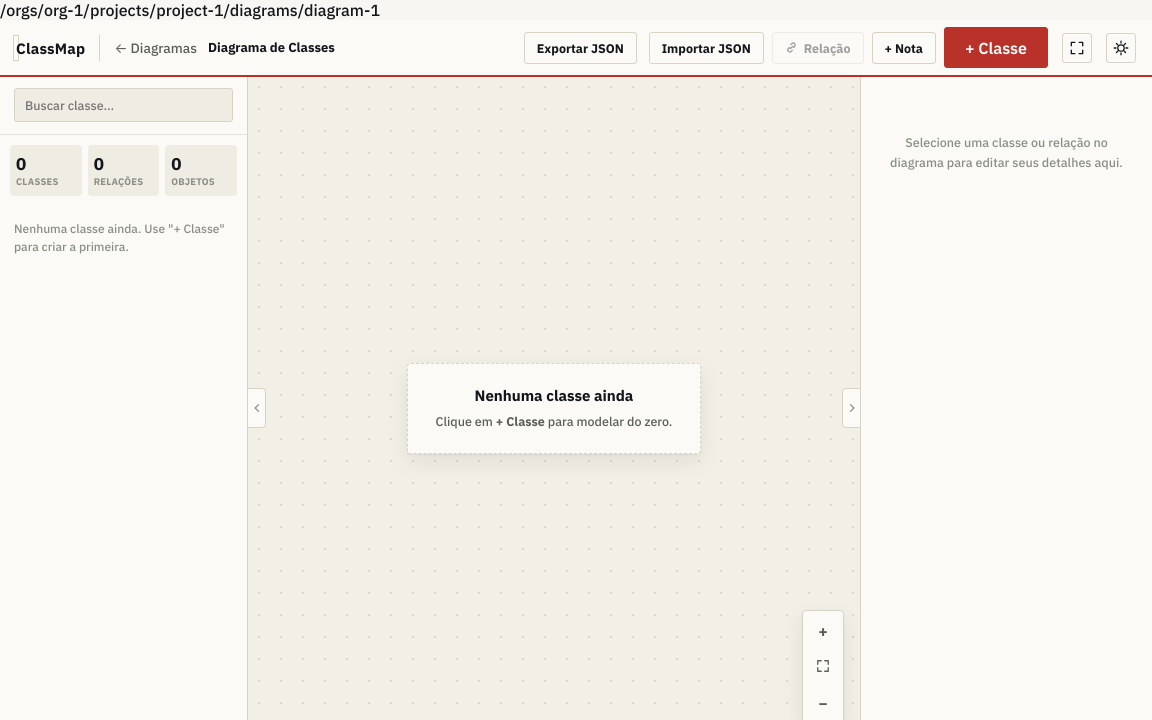
DiagramEditorPage — TASK-056 criar diagrama com o recorte › CA-11: falha ao criar mostra o erro e NÃO navega
Click the button "+ Classe" at coordinates (996, 48), box x1=944 y1=27 x2=1048 y2=68
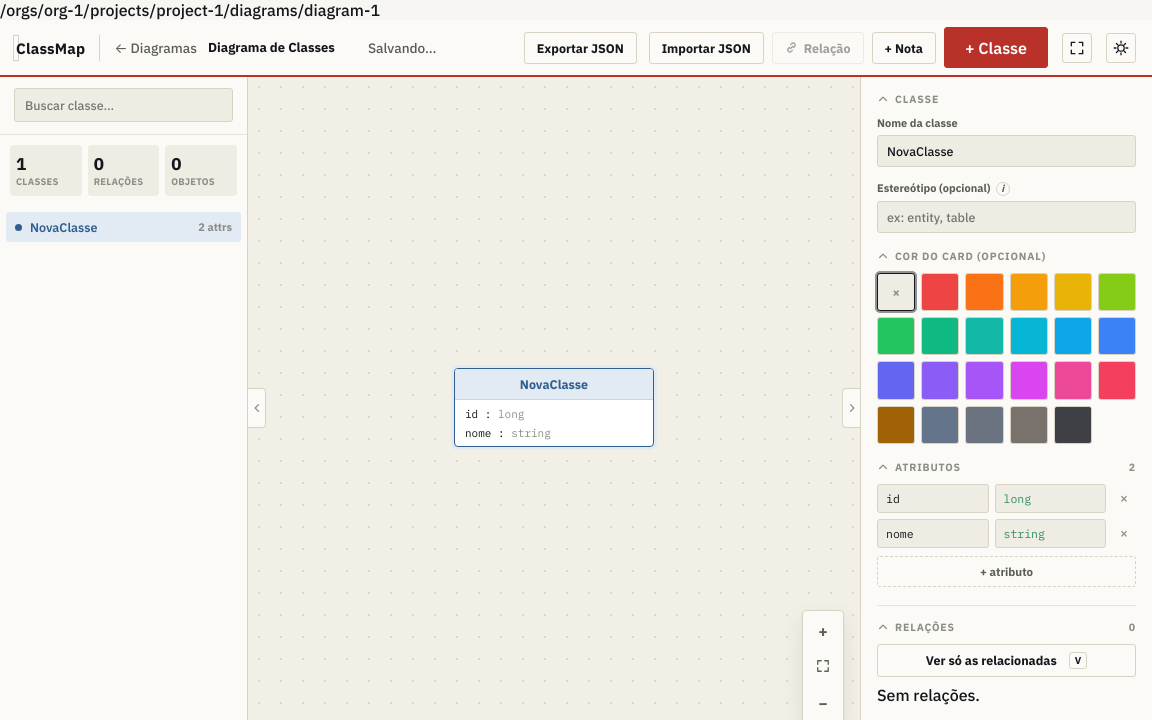
Press n
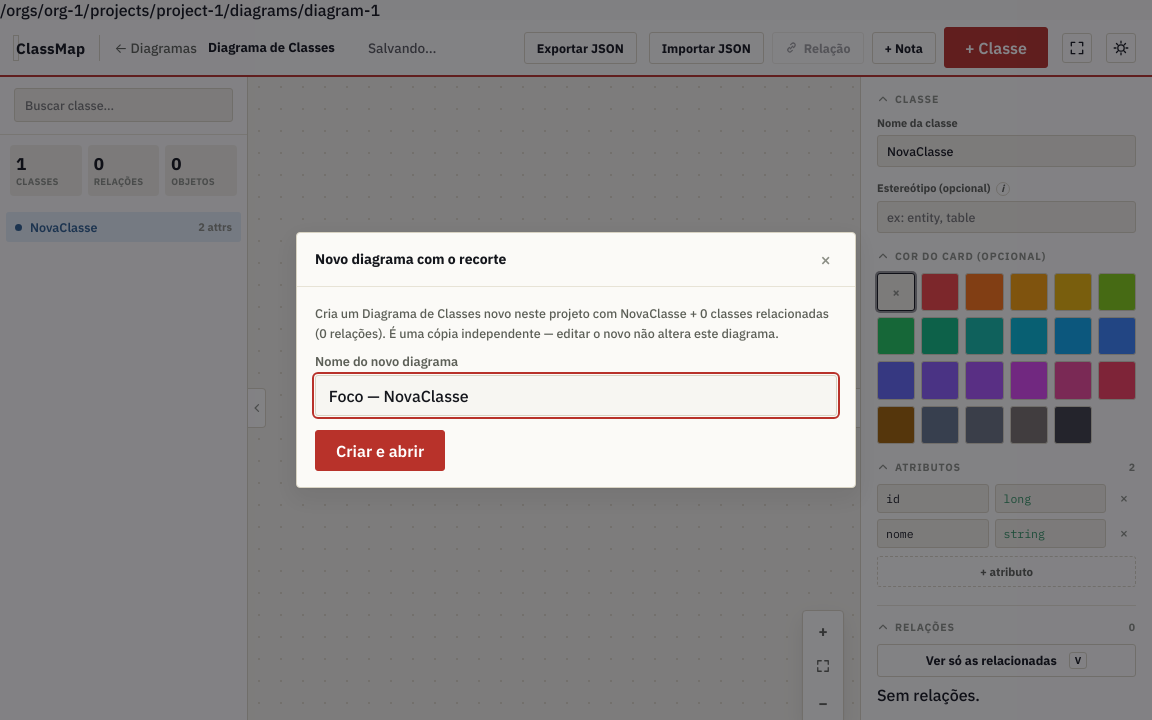
Click the button "Criar e abrir" at coordinates (380, 451), box x1=315 y1=430 x2=445 y2=472
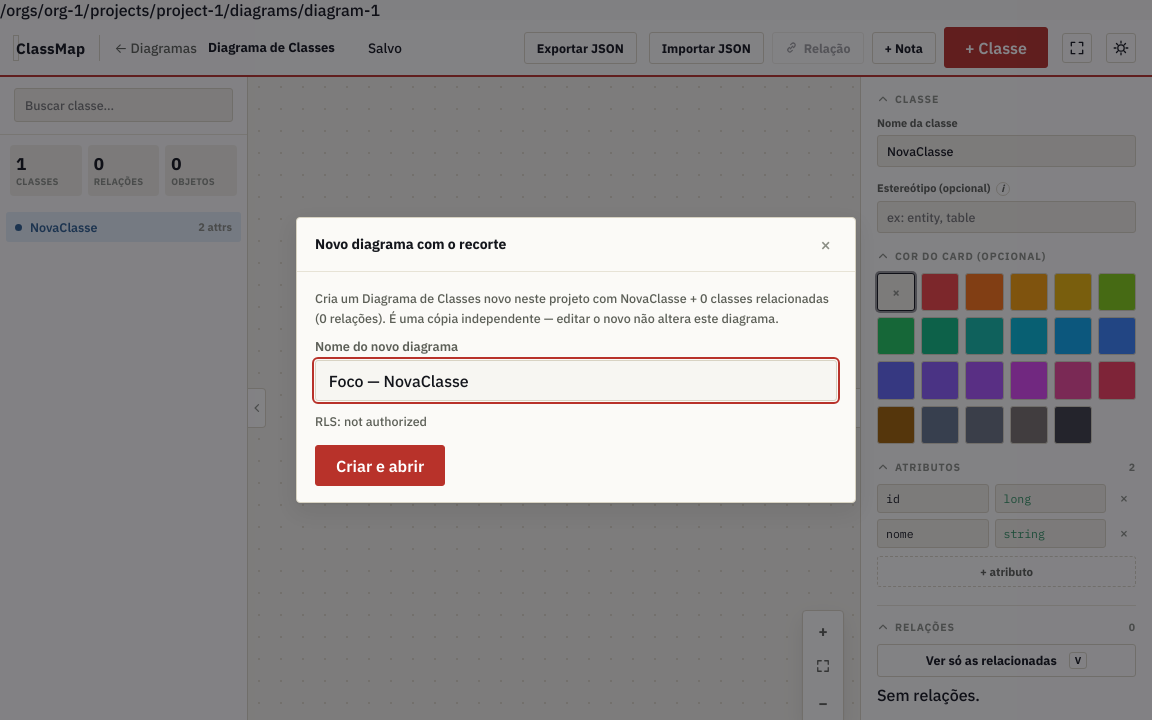
Expected: the text with test id "location" shows "/diagrams/diagram-1", x1=0 y1=0 x2=380 y2=20
Expected: the text "RLS: not authorized" is shown, x1=315 y1=413 x2=427 y2=429
